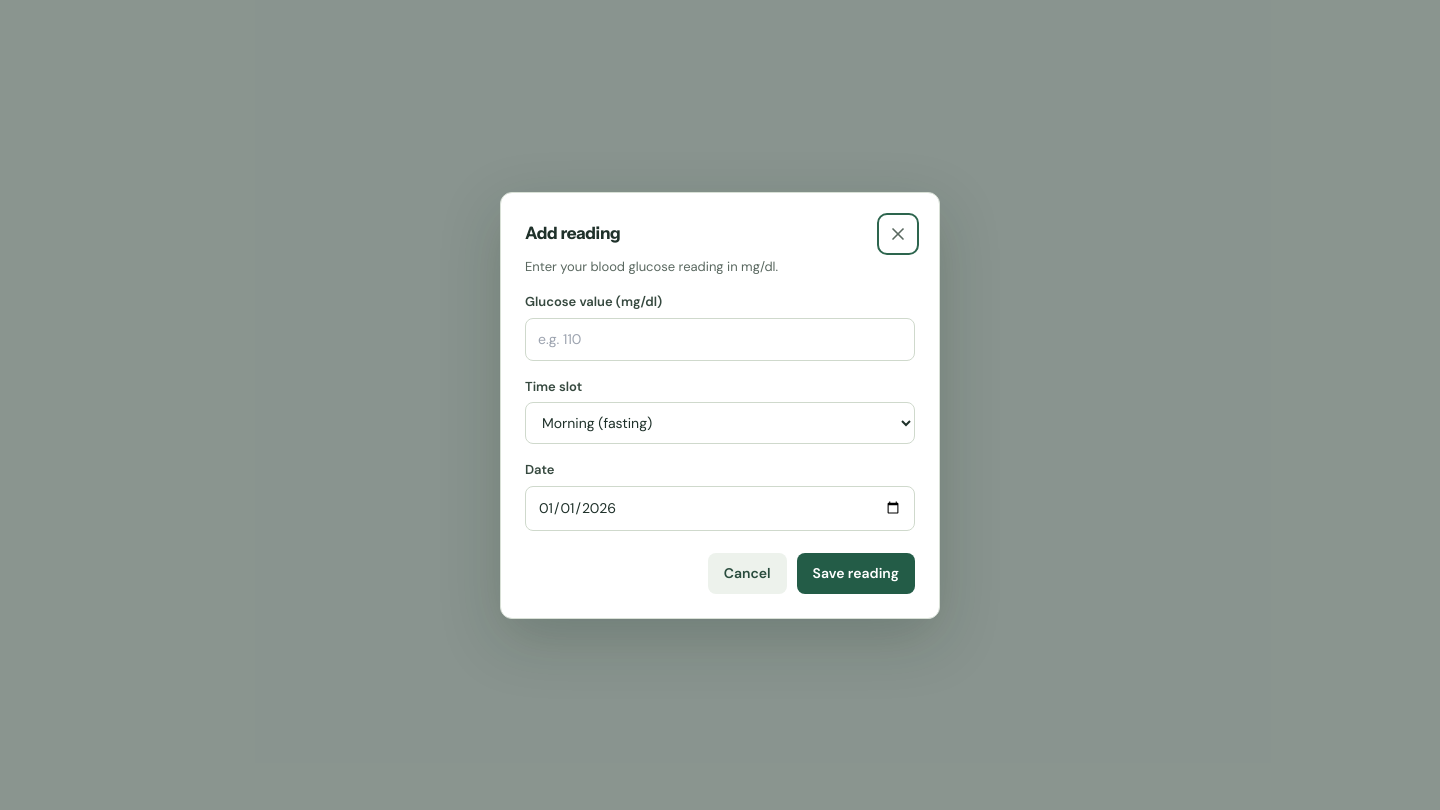
Scenario: Reading modal › validates future date
Type "110" into the number field labelled "Glucose value (mg/dl)".
click(720, 339); type("110")  # box [525,318,915,360]
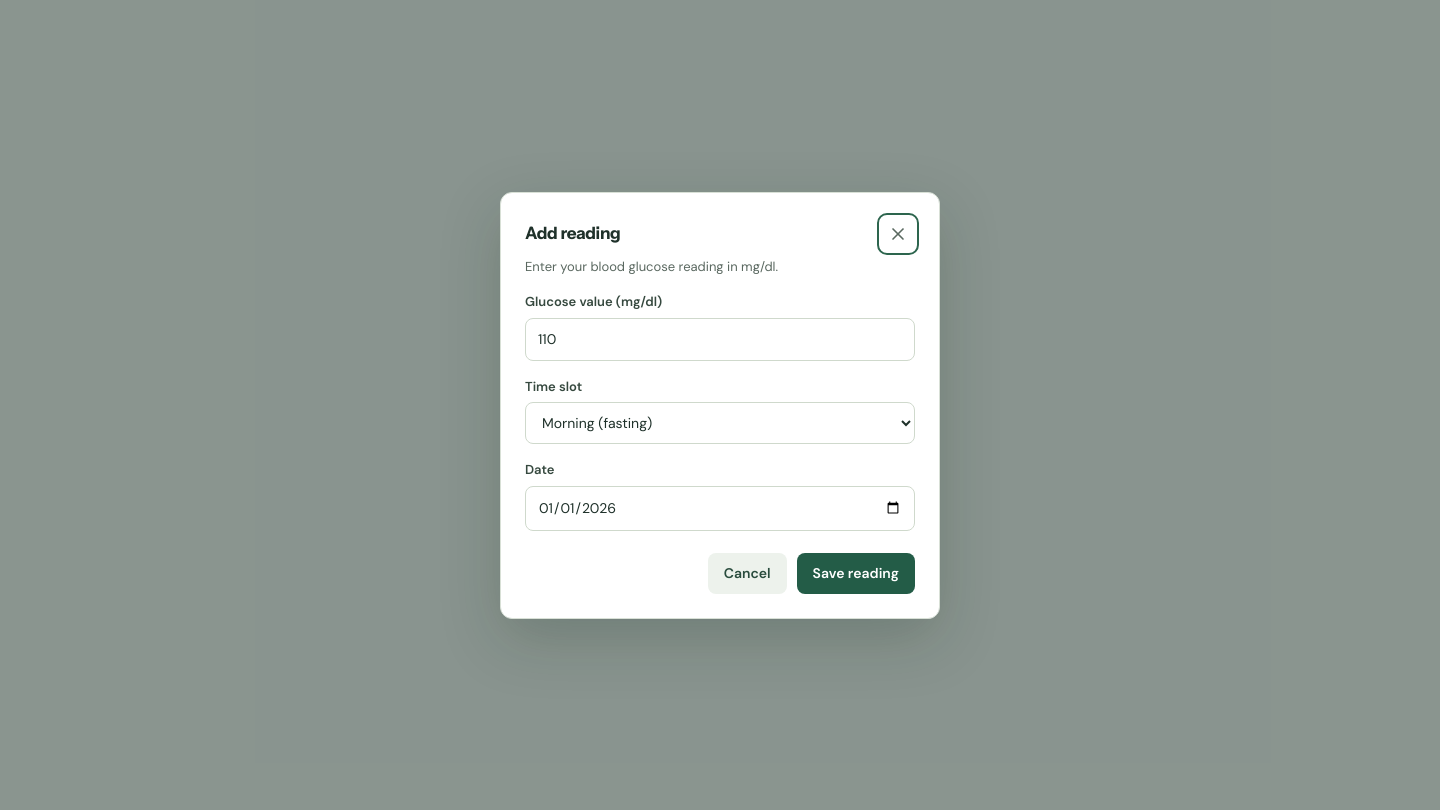
Type "2099-01-01" into the date field labelled "Date".
click(720, 508); type("2099-01-01")  # box [525,486,915,530]
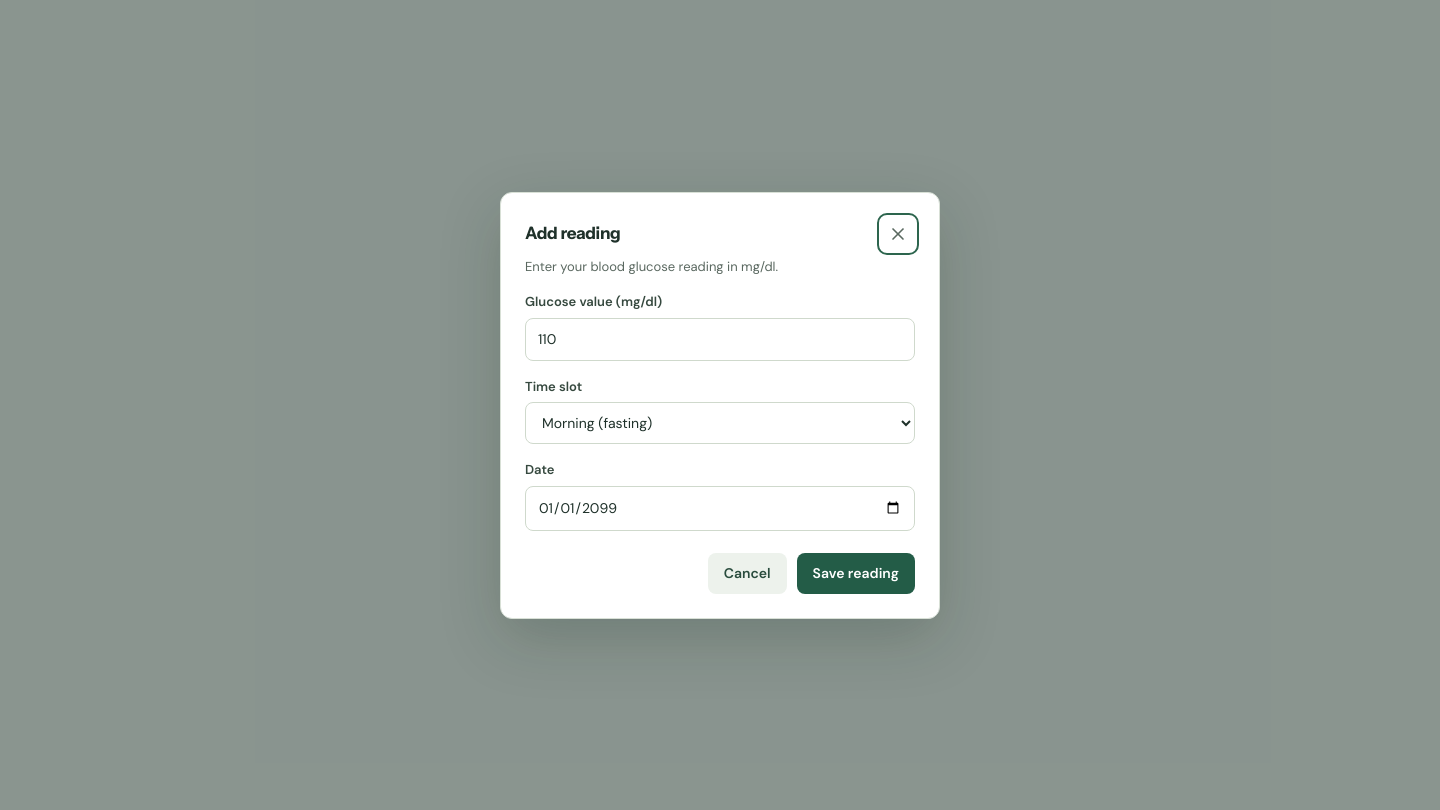
Click the button "Save reading".
click(856, 573)  # box [797,552,915,594]
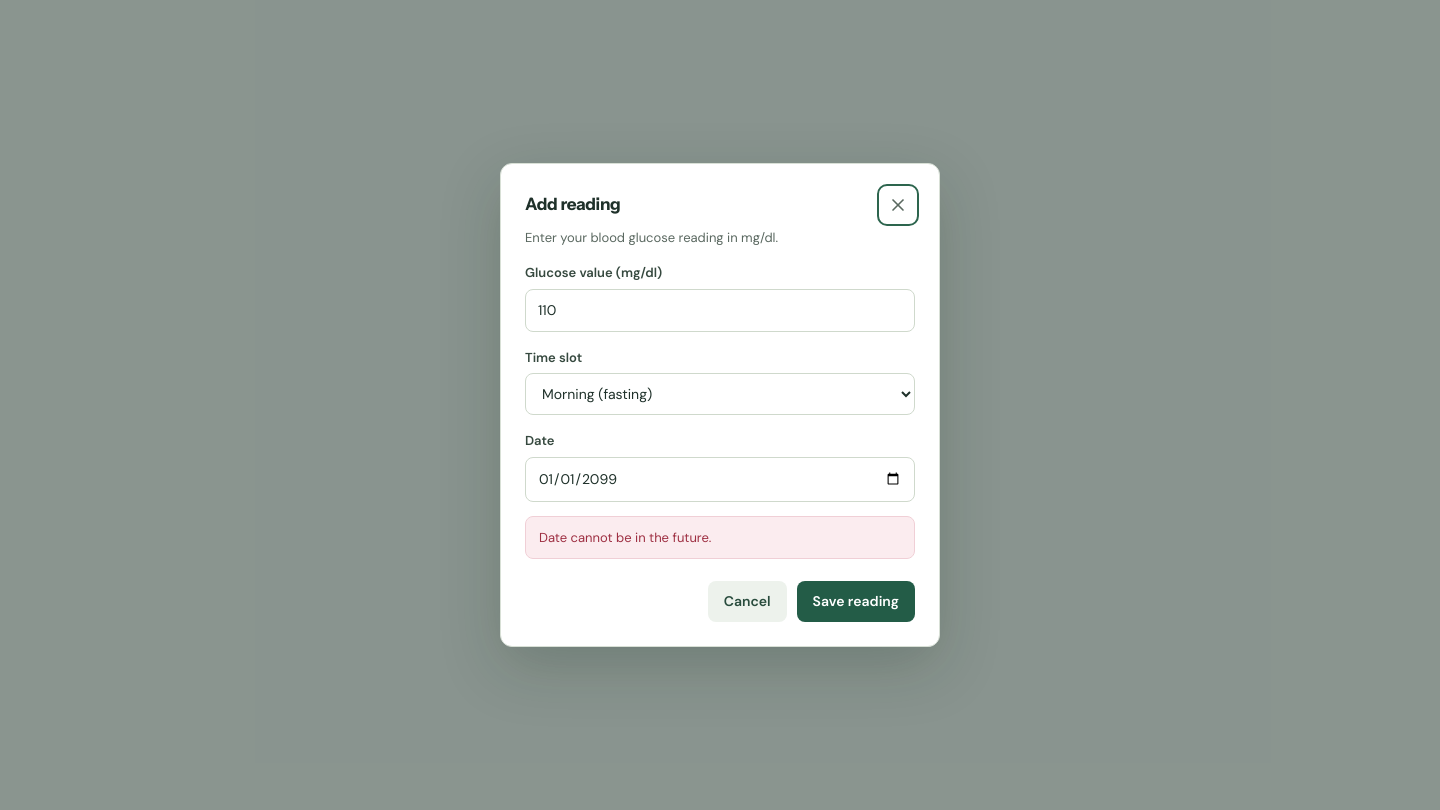
Now the message reads "Date cannot be in the future.", box [539,529,711,546]
